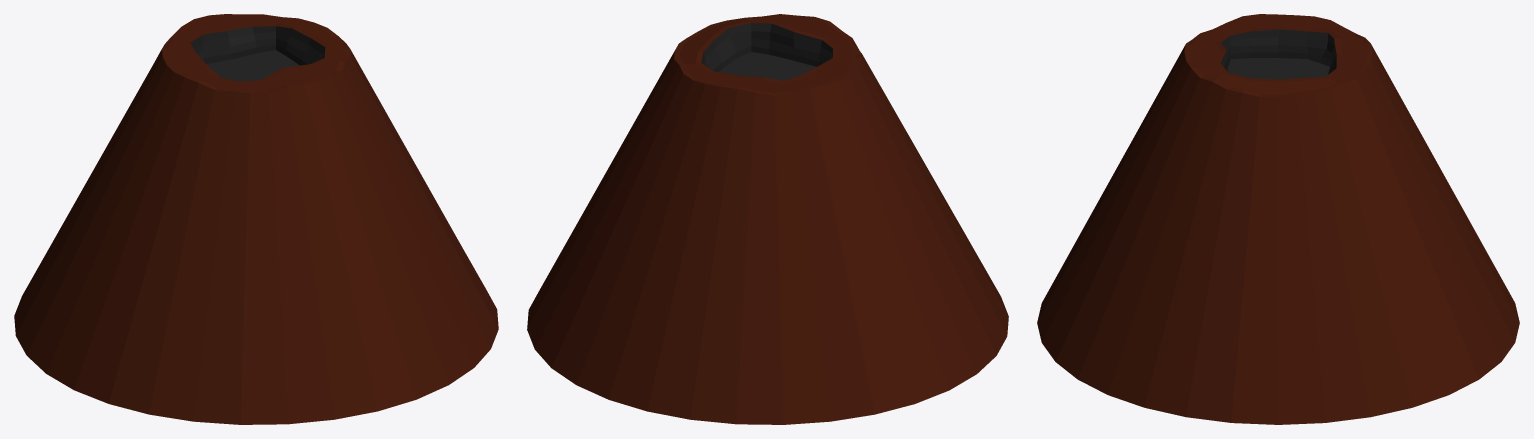
The model's file is surroundings.fbx.
3 renders of one model, left to right at view 1: azimuth 30°, elevation 25°; view 2: azimuth 150°, elevation 25°; view 3: azimuth 270°, elevation 25°, orthographic.
Visible parts, largest first — view 1: Cone; view 2: Cone; view 3: Cone.
Boxes of the visible parts, x1,y1,x2,y2 form: Cone: (14, 14, 498, 424); Cone: (527, 14, 1008, 424); Cone: (1037, 14, 1519, 424).
Size of the model in its own units: 200 by 124 by 200.
